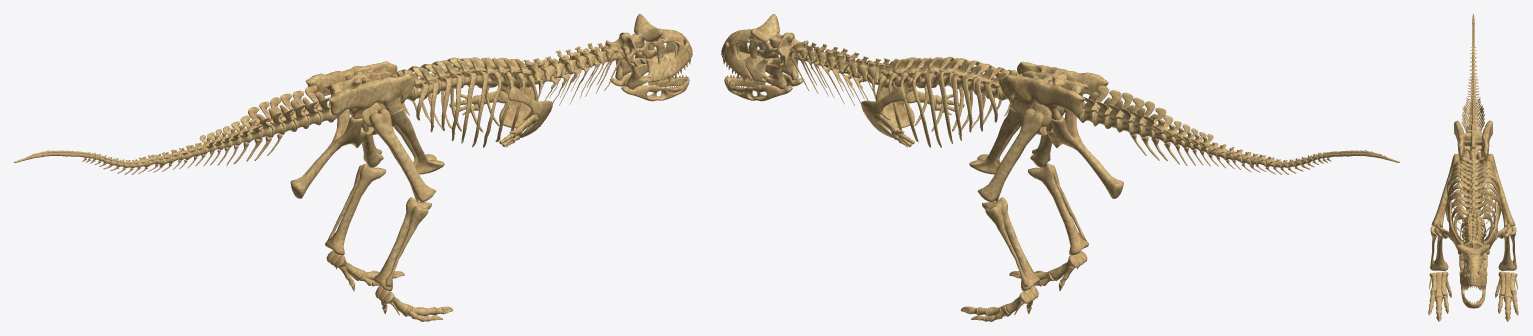
File: carnotaurus_sastrei_skeleton.glb
3 renders of one model, left to right at view 1: azimuth 30°, elevation 25°; view 2: azimuth 150°, elevation 25°; view 3: azimuth 270°, elevation 25°, orthographic. The views are drawn at different scales.
Size of the model in its own units: 3577 by 1192 by 584.
Materials: 1 (1 with a texture image).
